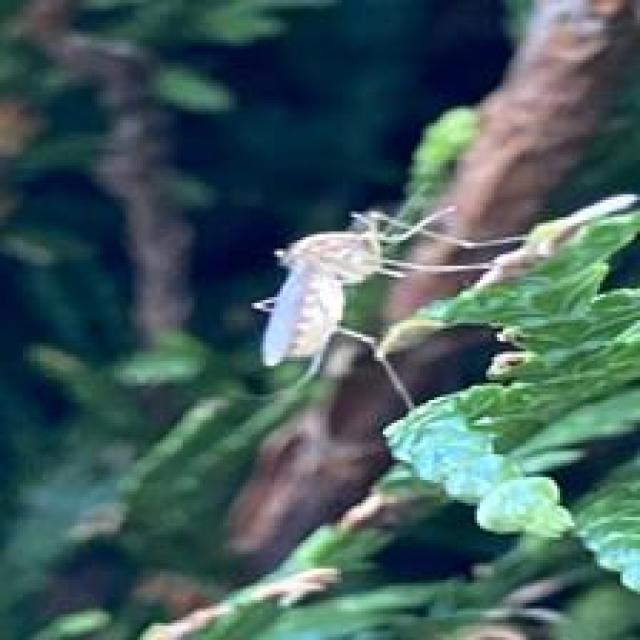Culex: (250, 203, 530, 408)
